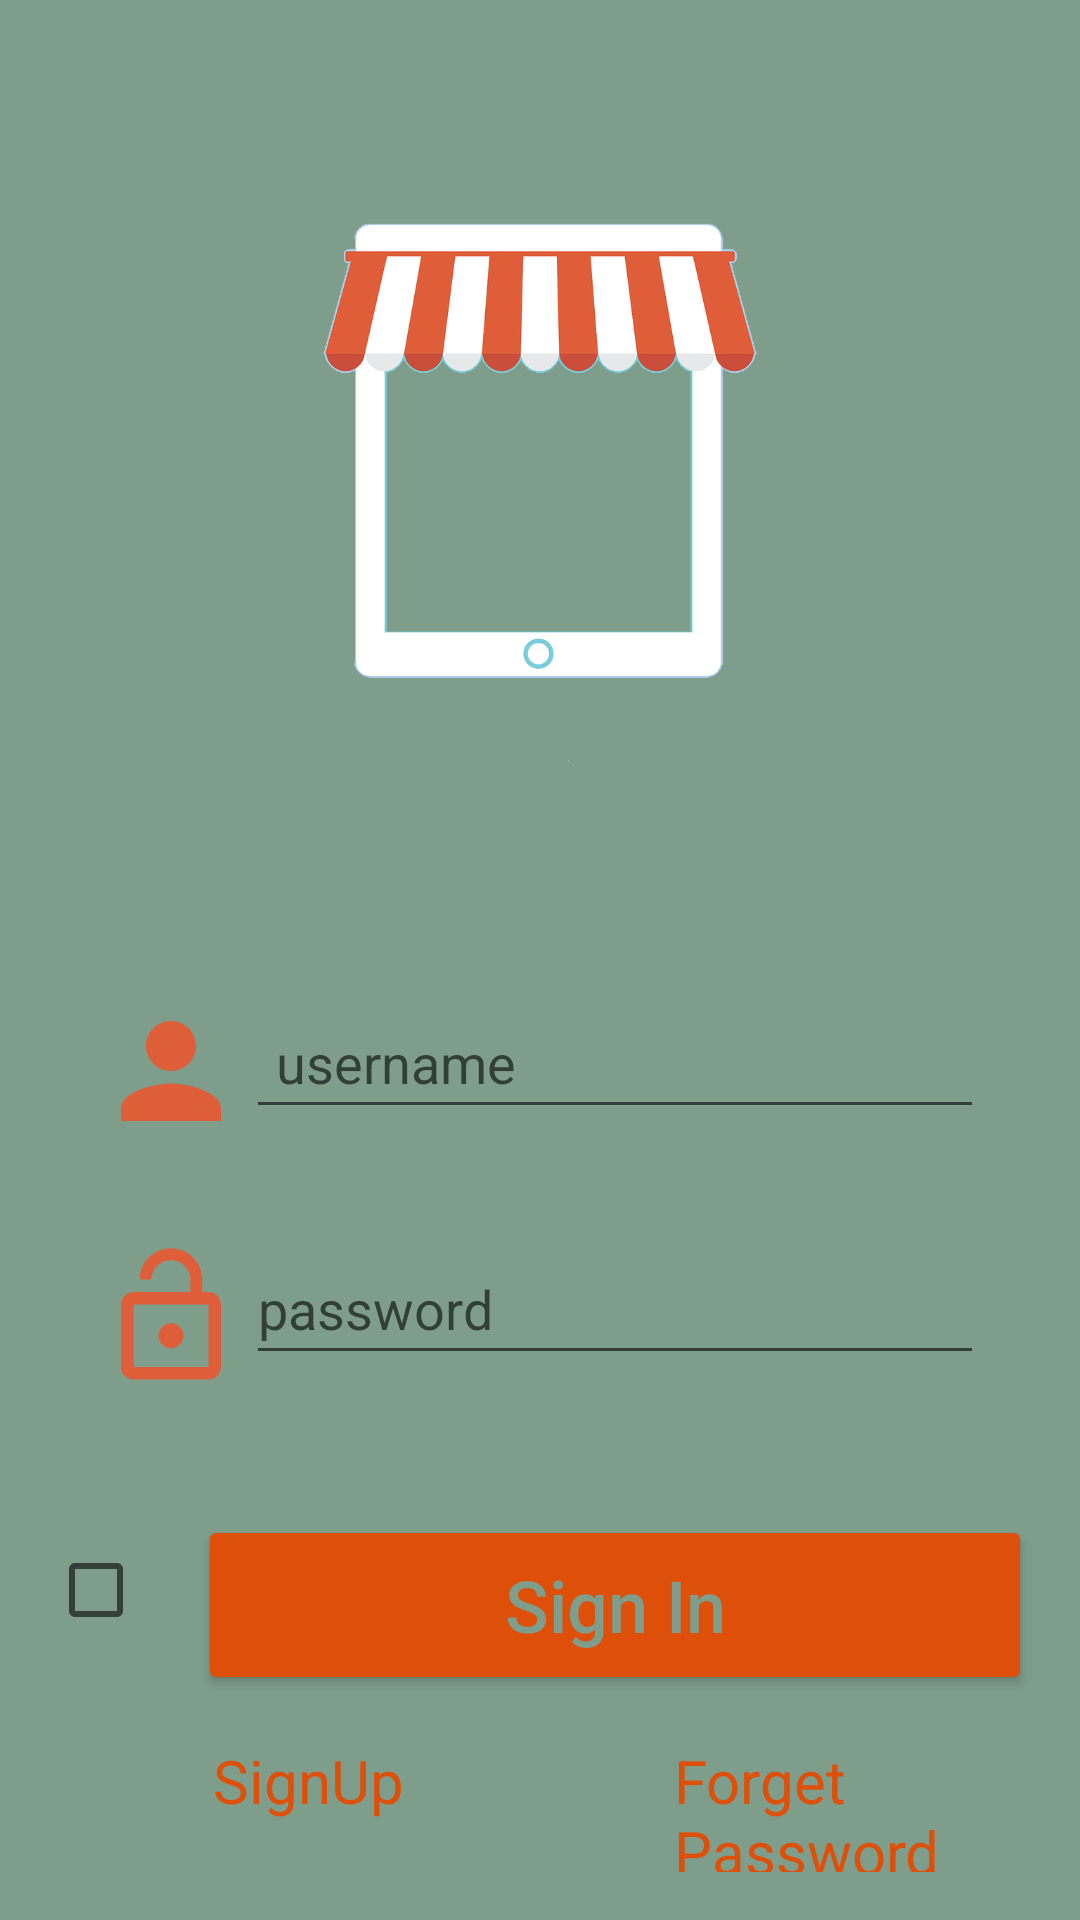

Screen size 1080 × 1920. Icon name, then its center in pixels as (x=x, y=y):
lockopen: (x=171, y=1314)
person: (x=171, y=1071)
